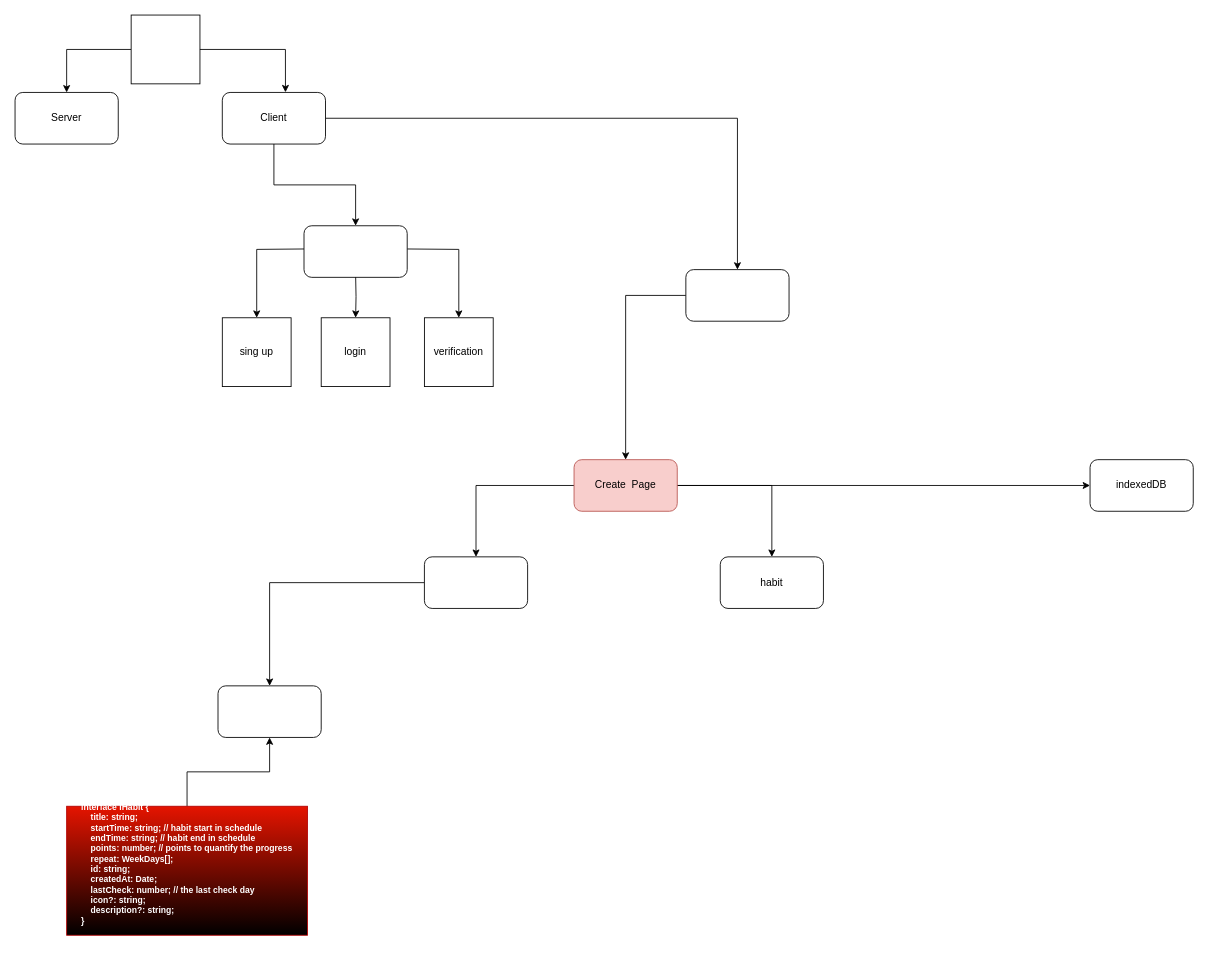
Image size: 1208x968. Some labels were removed from this diagram. The shapes that lost their labels are listed below. From the top down, each one's centre as x and y in pixels, then its label:
At pixel 165 49: "APP".
At pixel 355 251: "AUTH".
At pixel 737 295: "platform".
At pixel 476 582: "task".
At pixel 269 711: "model".
